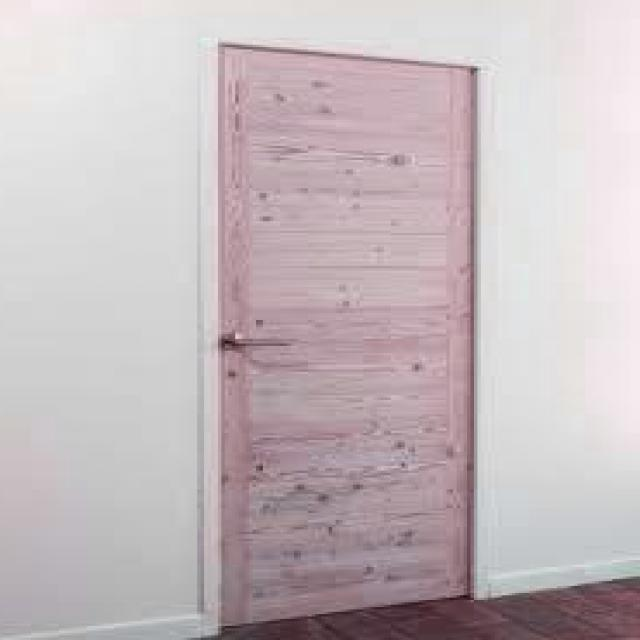door: (213, 41, 478, 626)
